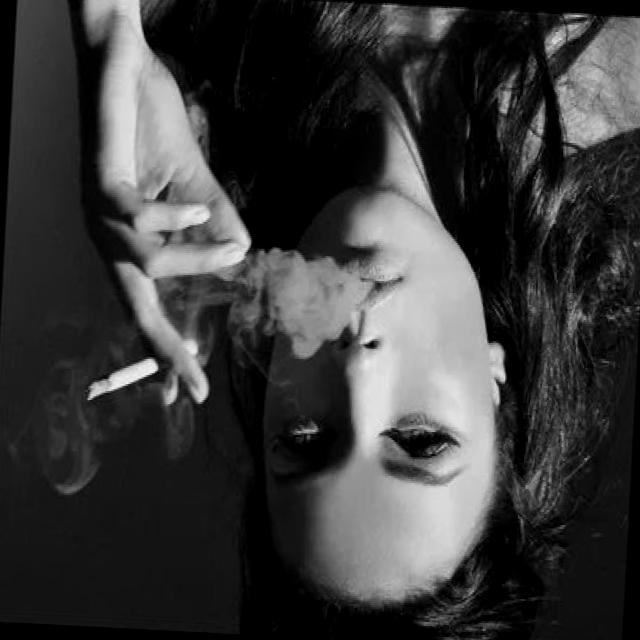smoke: (80, 334, 186, 413)
